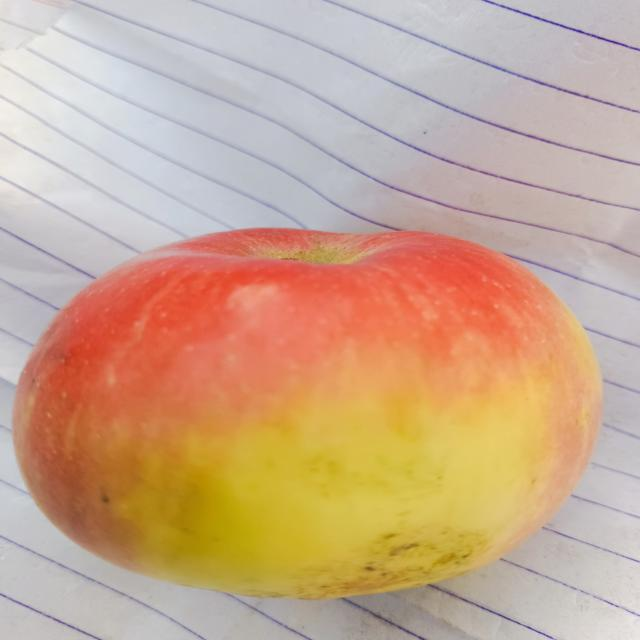Fresh Apple: (15, 217, 600, 603)
